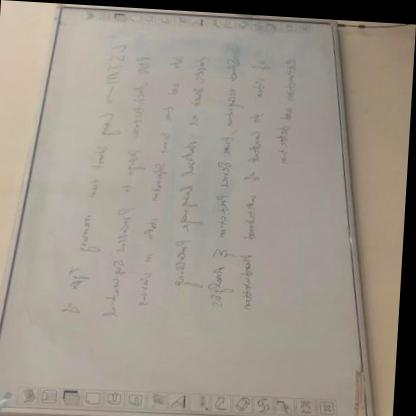Handwritten text: (51, 33, 137, 329), (98, 45, 165, 324), (130, 44, 191, 316), (205, 52, 250, 313), (166, 48, 212, 291), (237, 46, 275, 314), (273, 48, 299, 167)
Whiteboard: (0, 3, 374, 416)
